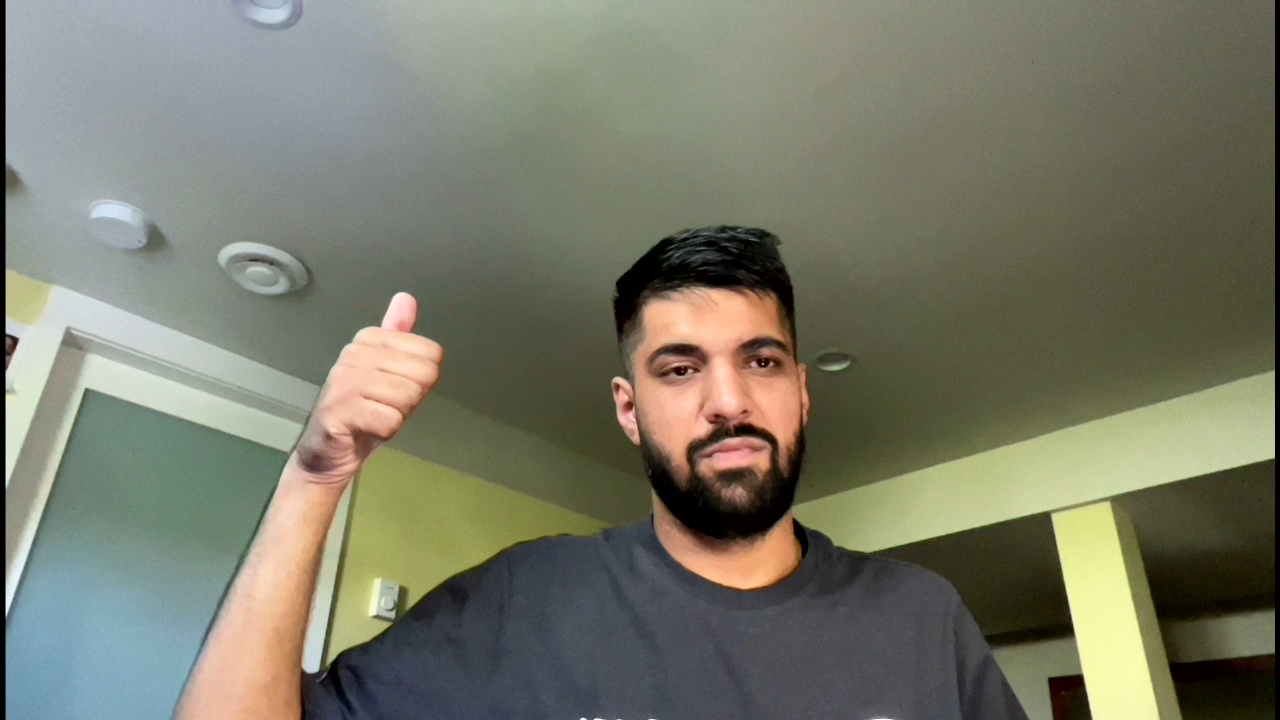Yes: (286, 288, 451, 474)
